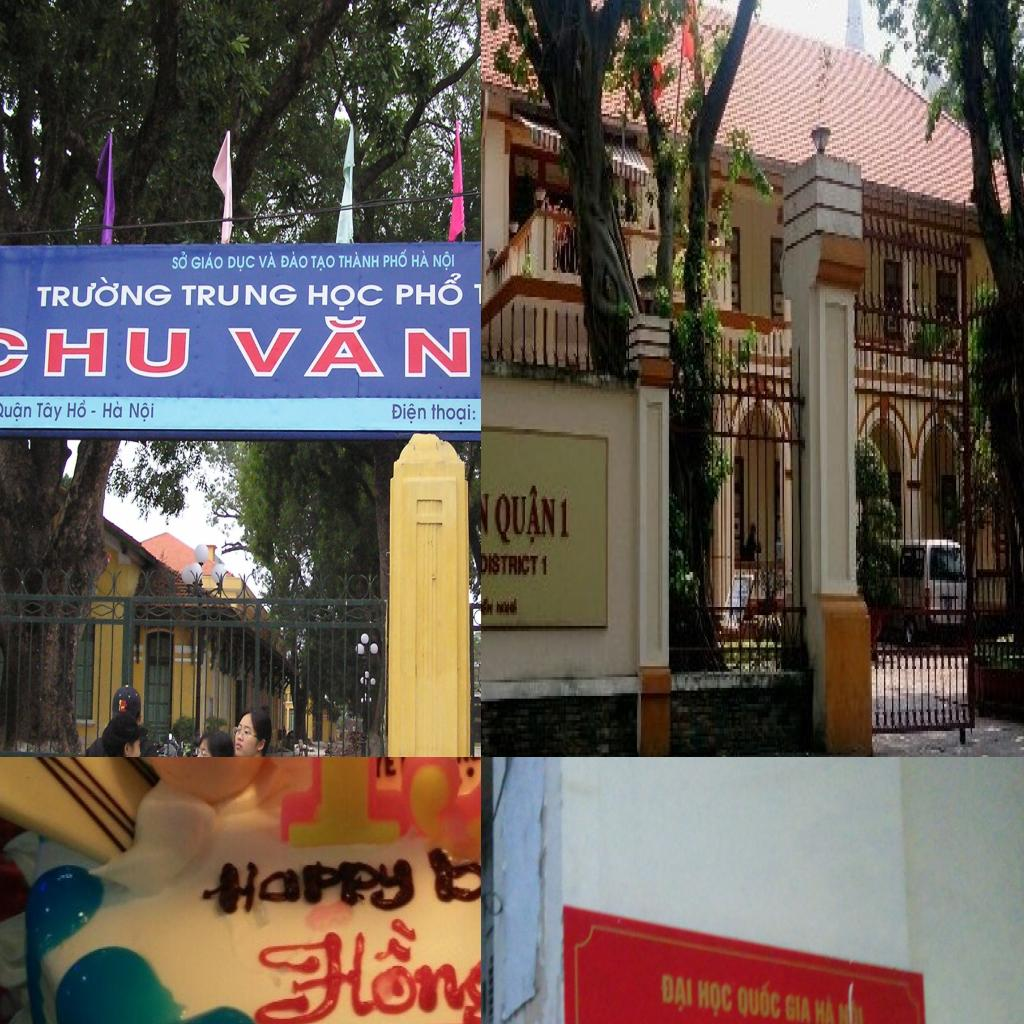text: (247, 910, 481, 1024), (221, 310, 471, 383), (201, 854, 418, 920), (0, 321, 195, 381), (34, 274, 174, 312), (493, 480, 558, 550), (176, 281, 300, 312), (392, 269, 466, 313), (306, 278, 386, 314), (737, 979, 781, 1024), (481, 547, 540, 580), (697, 979, 732, 1021), (660, 973, 694, 1015), (430, 397, 478, 426), (391, 399, 428, 425), (785, 991, 811, 1024), (337, 251, 380, 270), (0, 399, 34, 423), (128, 398, 156, 426), (34, 400, 66, 424), (190, 251, 224, 273), (837, 996, 863, 1024), (814, 993, 836, 1024), (279, 249, 309, 271), (382, 246, 409, 270), (101, 398, 125, 423), (432, 249, 456, 273), (560, 494, 572, 542), (226, 254, 256, 273), (309, 252, 337, 272), (66, 398, 88, 423), (380, 757, 401, 781), (410, 247, 432, 269), (256, 251, 278, 271), (170, 250, 190, 271), (541, 550, 549, 580)
